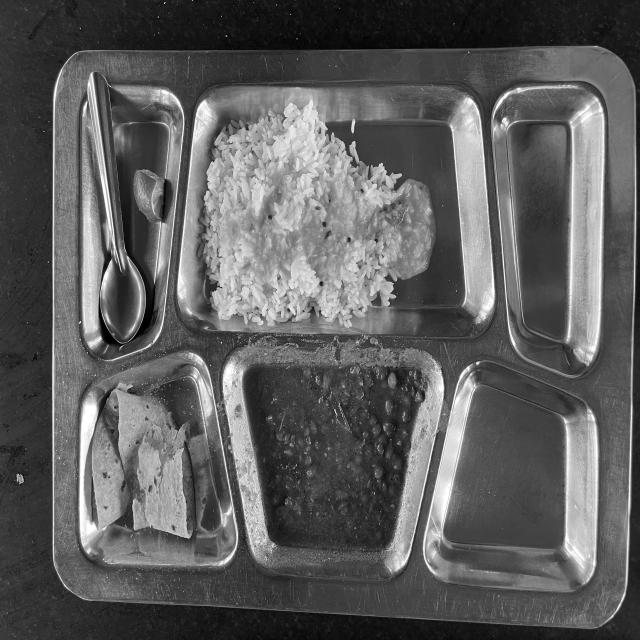50.1- Food Left: (64, 58, 601, 595)
